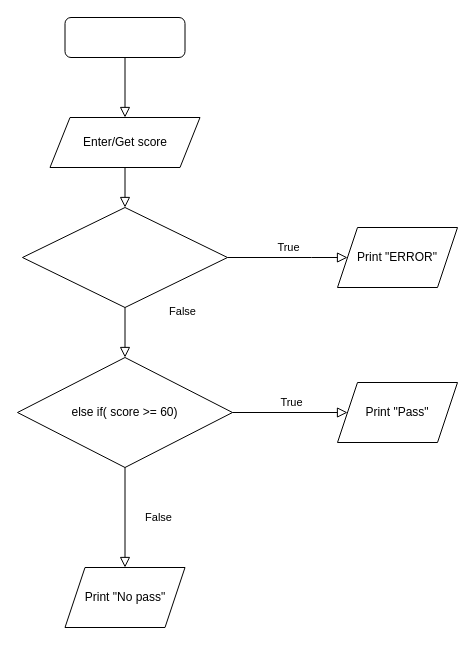
This 475x645 diagram has some shape labels left out. The shapes that lost their labels are listed below. From the top down, each one's centre as x and y in pixels, then its label:
At (x=124, y=37): "PASS/NO PASS".
At (x=125, y=257): "if(score > 100 OR score < 0)".
